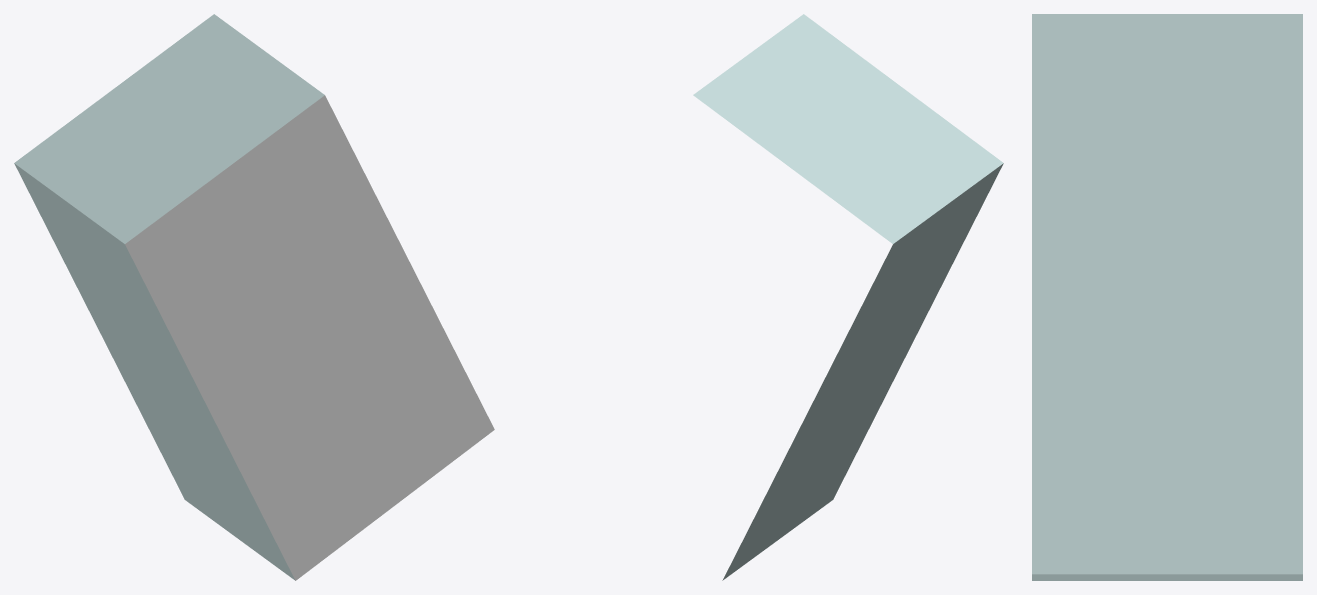
The picture shows the model from 3 angles, left to right: view 1: azimuth 30°, elevation 25°; view 2: azimuth 150°, elevation 25°; view 3: azimuth 270°, elevation 25°; orthographic projection. The views are drawn at different scales.
Parts seen in each view (by area): view 1: 0_1_1_3_2_1_1_2_2; view 2: 0_1_1_3_2_1_1_2_2; view 3: 0_1_1_3_2_1_1_2_2.
Part boxes in pixels (bbox=[...]): 0_1_1_3_2_1_1_2_2: bbox=[14, 14, 494, 580]; 0_1_1_3_2_1_1_2_2: bbox=[693, 14, 1003, 580]; 0_1_1_3_2_1_1_2_2: bbox=[1032, 14, 1302, 580].
Bounding box in the file's own units: 5.78 × 7.15 × 3.
